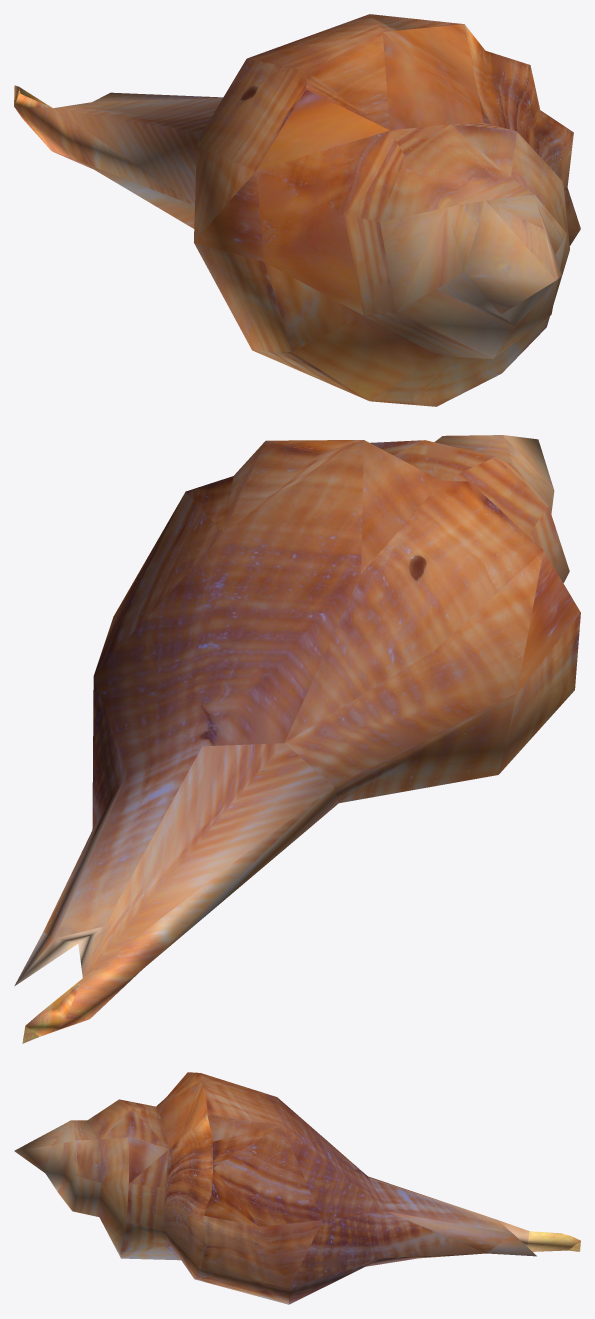
Rendered from SM_Seashell_14_LOD2.fbx.
3 renders of one model, top to bottom at view 1: azimuth 30°, elevation 25°; view 2: azimuth 150°, elevation 25°; view 3: azimuth 270°, elevation 25°, orthographic. The views are drawn at different scales.
Parts seen in each view (by area): view 1: SM_Seashell_14_LOD2; view 2: SM_Seashell_14_LOD2; view 3: SM_Seashell_14_LOD2.
Part boxes in pixels (x1,y1,x2,y2): SM_Seashell_14_LOD2: (14, 14, 580, 406); SM_Seashell_14_LOD2: (14, 435, 580, 1043); SM_Seashell_14_LOD2: (14, 1072, 580, 1304).
Size of the model in its own units: 5.05 by 4.4 by 12.36.
Materials: 1 (1 with a texture image).
